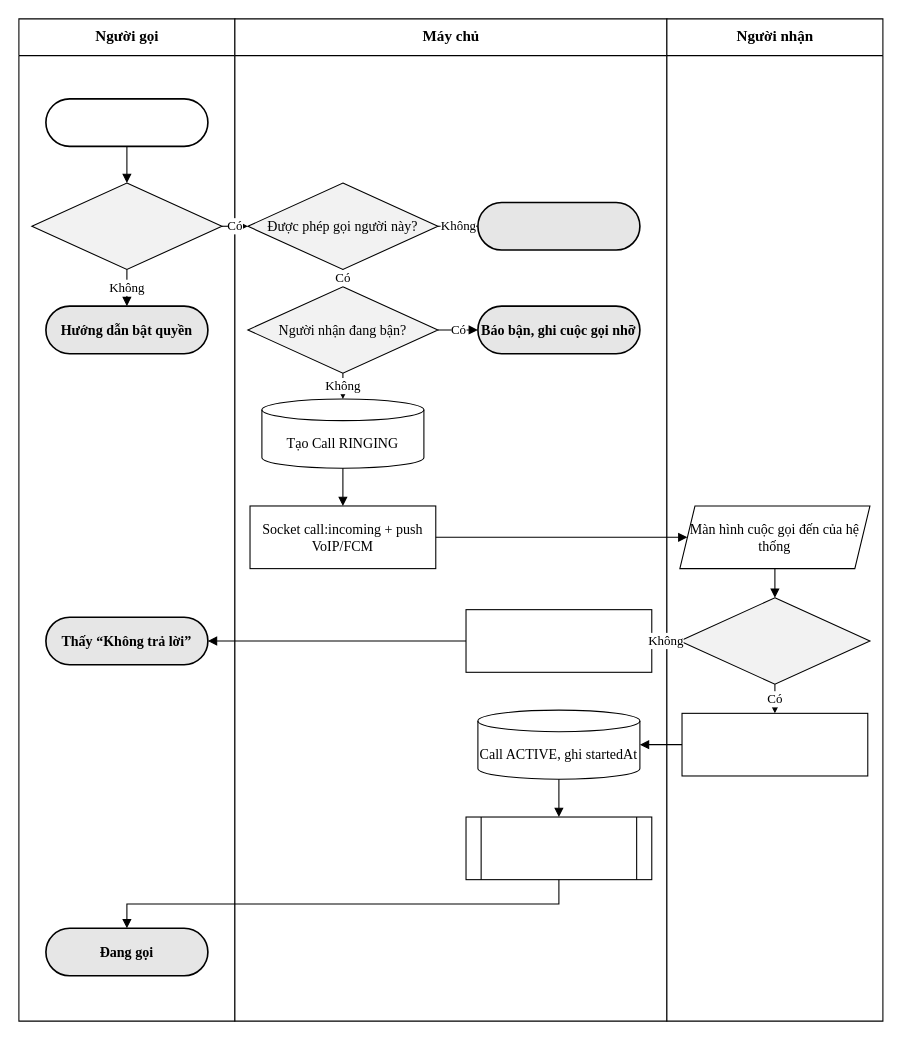
This 902x1040 diagram has some shape labels left out. Here are the shapes that lost their labels. From the top down, the centre of each, then its label:
pixel 126 122: Bấm gọi thoại hoặc video
pixel 126 225: Có quyền micro (camera)?
pixel 558 225: Từ chối CALL_NOT_ALLOWED
pixel 558 640: Ghi MISSED / DECLINED, báo người gọi
pixel 774 640: Bắt máy trong 45 giây?
pixel 774 744: Gửi call:accept
pixel 558 848: Kết nối âm thanh/video (sơ đồ sau)
